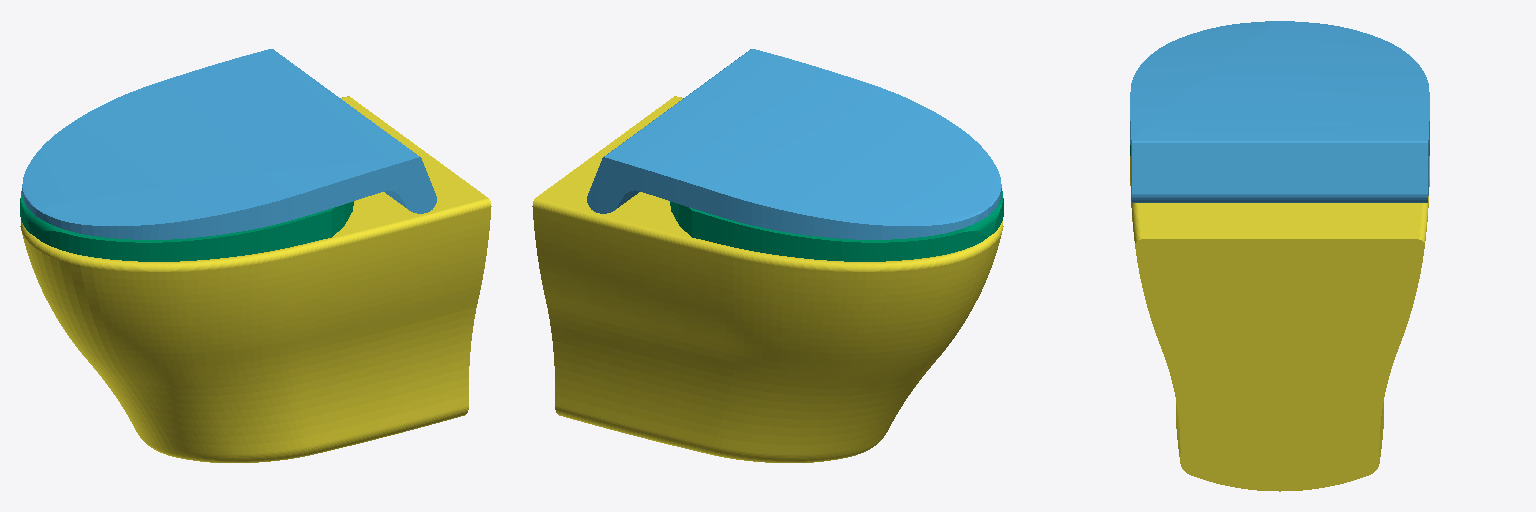
robot.urdf — partnet_7e31ccd0cebf6cd9ac9cfb689e5db0da:
<robot name="partnet_7e31ccd0cebf6cd9ac9cfb689e5db0da">
	<link name="base" />
	<link name="link_0">
		<collision>
			<origin xyz="-0.5138341253689305 -0.31116373741339765 0.4282795820395515" />
			<geometry>
				<mesh filename="new_objs/102658_link_0_0.obj" />
			</geometry>
		</collision>
	<collision>
			<origin xyz="-0.5138341253689305 -0.31116373741339765 0.4282795820395515" />
			<geometry>
				<mesh filename="new_objs/102658_link_0_1.obj" />
			</geometry>
		</collision>
	<visual name="lid-part[&quot;id]">
			<origin xyz="-0.5138341253689305 -0.31116373741339765 0.4282795820395515" />
			<geometry>
				<mesh filename="textured_objs/original-3.obj" />
			</geometry>
		</visual>
		</link>
	<joint name="joint_0" type="revolute">
		<origin xyz="0.5138341253689305 0.31116373741339765 -0.4282795820395515" />
		<axis xyz="-1 0 0" />
		<child link="link_0" />
		<parent link="link_2" />
		<limit lower="0.0" upper="1.9373154697137058" />
	</joint>
	<link name="link_1">
		<collision>
			<origin xyz="-0.5138341253689305 -0.31116373741339765 0.4282795820395515" />
			<geometry>
				<mesh filename="new_objs/102658_link_1_5.obj" />
			</geometry>
		</collision>
	<collision>
			<origin xyz="-0.5138341253689305 -0.31116373741339765 0.4282795820395515" />
			<geometry>
				<mesh filename="new_objs/102658_link_1_4.obj" />
			</geometry>
		</collision>
	<collision>
			<origin xyz="-0.5138341253689305 -0.31116373741339765 0.4282795820395515" />
			<geometry>
				<mesh filename="new_objs/102658_link_1_7.obj" />
			</geometry>
		</collision>
	<collision>
			<origin xyz="-0.5138341253689305 -0.31116373741339765 0.4282795820395515" />
			<geometry>
				<mesh filename="new_objs/102658_link_1_8.obj" />
			</geometry>
		</collision>
	<collision>
			<origin xyz="-0.5138341253689305 -0.31116373741339765 0.4282795820395515" />
			<geometry>
				<mesh filename="new_objs/102658_link_1_9.obj" />
			</geometry>
		</collision>
	<collision>
			<origin xyz="-0.5138341253689305 -0.31116373741339765 0.4282795820395515" />
			<geometry>
				<mesh filename="new_objs/102658_link_1_6.obj" />
			</geometry>
		</collision>
	<collision>
			<origin xyz="-0.5138341253689305 -0.31116373741339765 0.4282795820395515" />
			<geometry>
				<mesh filename="new_objs/102658_link_1_1.obj" />
			</geometry>
		</collision>
	<collision>
			<origin xyz="-0.5138341253689305 -0.31116373741339765 0.4282795820395515" />
			<geometry>
				<mesh filename="new_objs/102658_link_1_0.obj" />
			</geometry>
		</collision>
	<collision>
			<origin xyz="-0.5138341253689305 -0.31116373741339765 0.4282795820395515" />
			<geometry>
				<mesh filename="new_objs/102658_link_1_3.obj" />
			</geometry>
		</collision>
	<collision>
			<origin xyz="-0.5138341253689305 -0.31116373741339765 0.4282795820395515" />
			<geometry>
				<mesh filename="new_objs/102658_link_1_2.obj" />
			</geometry>
		</collision>
	<collision>
			<origin xyz="-0.5138341253689305 -0.31116373741339765 0.4282795820395515" />
			<geometry>
				<mesh filename="new_objs/102658_link_1_10.obj" />
			</geometry>
		</collision>
	<visual name="seat-part[&quot;id]">
			<origin xyz="-0.5138341253689305 -0.31116373741339765 0.4282795820395515" />
			<geometry>
				<mesh filename="textured_objs/original-2.obj" />
			</geometry>
		</visual>
		</link>
	<joint name="joint_1" type="revolute">
		<origin xyz="0.5138341253689305 0.31116373741339765 -0.4282795820395515" />
		<axis xyz="-1 0 0" />
		<child link="link_1" />
		<parent link="link_2" />
		<limit lower="-0.0" upper="1.9373154697137058" />
	</joint>
	<link name="link_2">
		<collision>
			<origin xyz="0 0 0" />
			<geometry>
				<mesh filename="new_objs/102658_link_2_3.obj" />
			</geometry>
		</collision>
	<collision>
			<origin xyz="0 0 0" />
			<geometry>
				<mesh filename="new_objs/102658_link_2_1.obj" />
			</geometry>
		</collision>
	<collision>
			<origin xyz="0 0 0" />
			<geometry>
				<mesh filename="new_objs/102658_link_2_9.obj" />
			</geometry>
		</collision>
	<collision>
			<origin xyz="0 0 0" />
			<geometry>
				<mesh filename="new_objs/102658_link_2_0.obj" />
			</geometry>
		</collision>
	<collision>
			<origin xyz="0 0 0" />
			<geometry>
				<mesh filename="new_objs/102658_link_2_6.obj" />
			</geometry>
		</collision>
	<collision>
			<origin xyz="0 0 0" />
			<geometry>
				<mesh filename="new_objs/102658_link_2_7.obj" />
			</geometry>
		</collision>
	<collision>
			<origin xyz="0 0 0" />
			<geometry>
				<mesh filename="new_objs/102658_link_2_12.obj" />
			</geometry>
		</collision>
	<collision>
			<origin xyz="0 0 0" />
			<geometry>
				<mesh filename="new_objs/102658_link_2_10.obj" />
			</geometry>
		</collision>
	<collision>
			<origin xyz="0 0 0" />
			<geometry>
				<mesh filename="new_objs/102658_link_2_5.obj" />
			</geometry>
		</collision>
	<collision>
			<origin xyz="0 0 0" />
			<geometry>
				<mesh filename="new_objs/102658_link_2_8.obj" />
			</geometry>
		</collision>
	<collision>
			<origin xyz="0 0 0" />
			<geometry>
				<mesh filename="new_objs/102658_link_2_4.obj" />
			</geometry>
		</collision>
	<collision>
			<origin xyz="0 0 0" />
			<geometry>
				<mesh filename="new_objs/102658_link_2_2.obj" />
			</geometry>
		</collision>
	<collision>
			<origin xyz="0 0 0" />
			<geometry>
				<mesh filename="new_objs/102658_link_2_11.obj" />
			</geometry>
		</collision>
	<visual name="base_body-part[&quot;id]">
			<origin xyz="0 0 0" />
			<geometry>
				<mesh filename="textured_objs/original-1.obj" />
			</geometry>
		</visual>
		</link>
	<joint name="joint_2" type="fixed">
		<origin rpy="1.570796326794897 0 -1.570796326794897" xyz="0 0 0" />
		<child link="link_2" />
		<parent link="base" />
	</joint>
</robot>

--- What the picture shows (computed from the rendered views, not written in the file) ---
The picture shows the robot from 3 angles, left to right: view 1: azimuth 30°, elevation 25°; view 2: azimuth 150°, elevation 25°; view 3: azimuth 270°, elevation 25°; orthographic projection.
Robot: partnet_7e31ccd0cebf6cd9ac9cfb689e5db0da — 4 links, 3 joints (2 revolute, 1 fixed); root link base; default pose: every joint at zero.
Visible links, largest first — view 1: link_2, link_0, link_1; view 2: link_2, link_0, link_1; view 3: link_2, link_0.
Boxes of the visible links, box(x1,y1,x2,y2) form: link_2: box(20, 96, 491, 462); link_0: box(22, 49, 436, 239); link_1: box(20, 191, 353, 261); link_2: box(532, 96, 1003, 462); link_0: box(587, 49, 1001, 239); link_1: box(670, 191, 1003, 261); link_2: box(1130, 156, 1429, 491); link_0: box(1130, 21, 1429, 202).
Bounding box of the posed robot: 1.56 × 1.05 × 1.21 m (x, y, z).
3 mesh visuals loaded from 3 distinct referenced files (3 OBJ).
